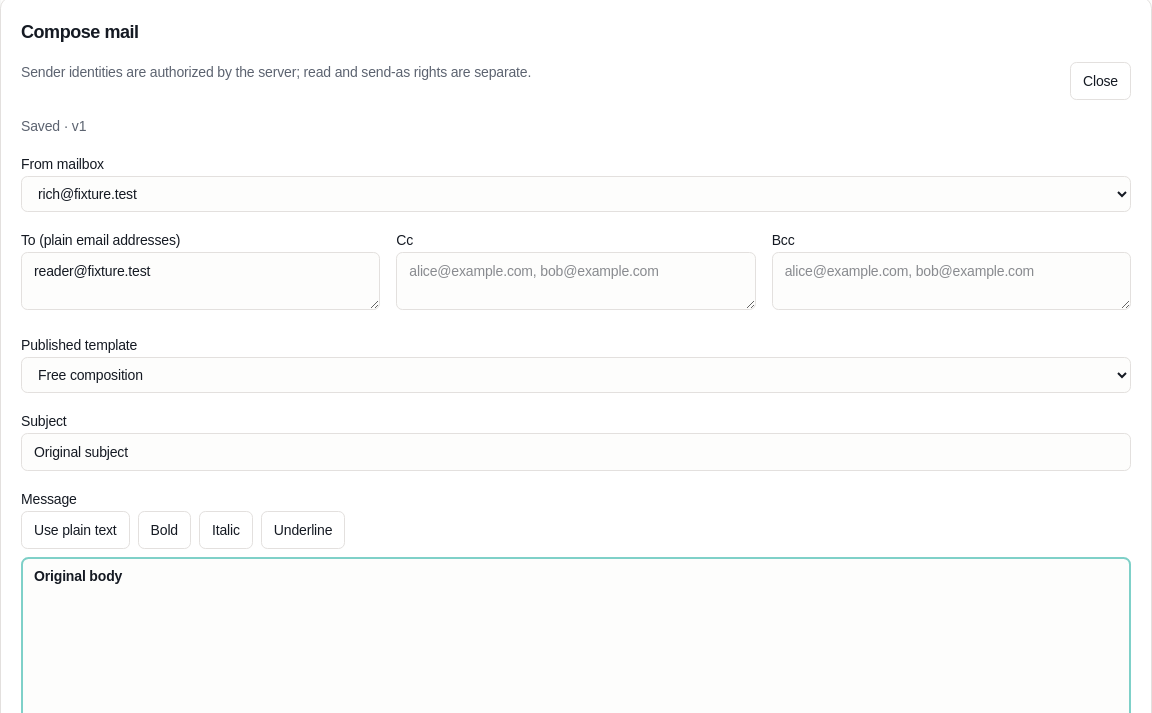
Test: discards native DOM edits even when the loaded body values equal the last controlled values
The width and height of the screenshot is (1152, 713).
Expected: the dropdown labelled "Published template" is enabled, [21, 357, 1131, 393]
Expected: the text box labelled "Original body" is shown, [34, 568, 122, 584]
Step 1. Replace the text in the field labelled "Subject" with "Local subject" → (576, 452), box [21, 433, 1131, 471]
(page scrolled)
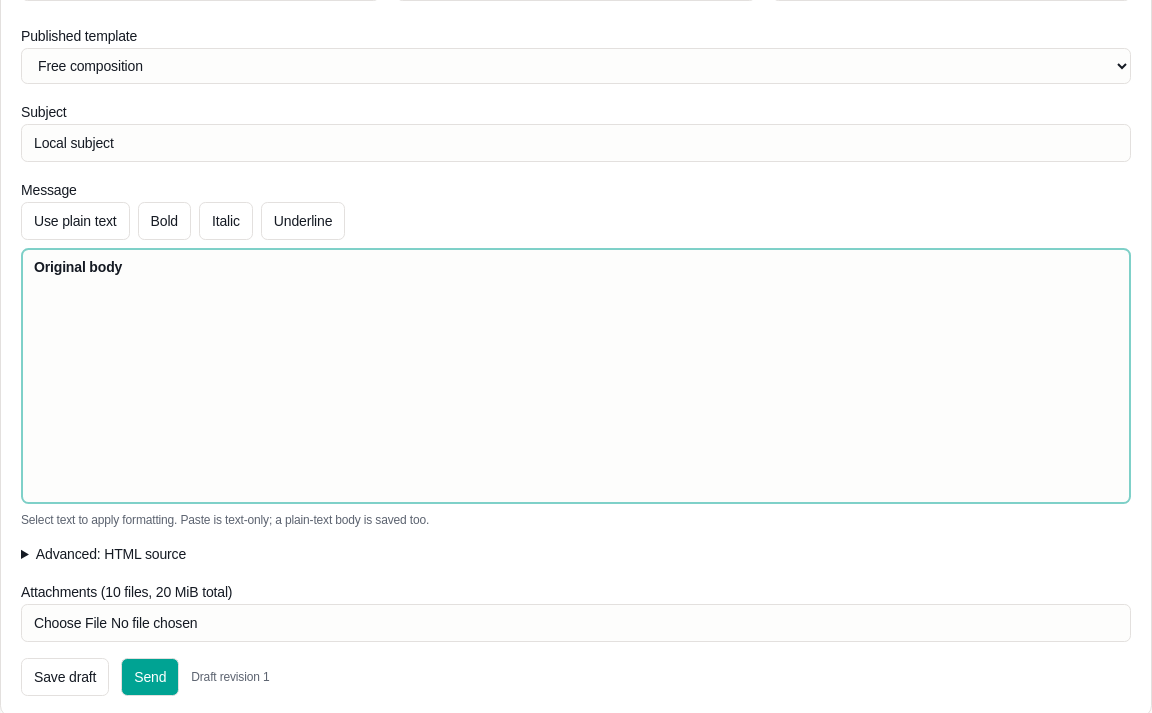
Step 2. Click the button "Save draft" → (65, 677), box [21, 658, 109, 696]
(page scrolled)
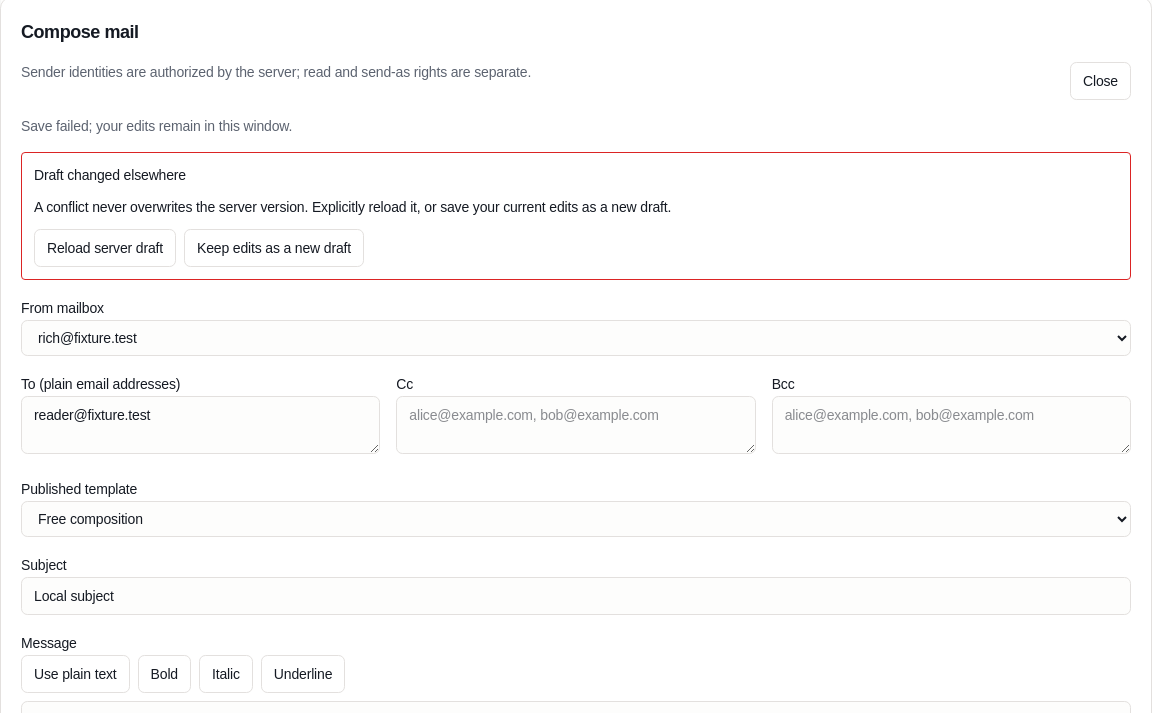
Now the text "Draft changed elsewhere" is shown, box [34, 167, 186, 183]
Now the button "Reload server draft" is enabled
Step 3. Click the button "Reload server draft" → (105, 248), box [34, 229, 176, 267]
(page scrolled)
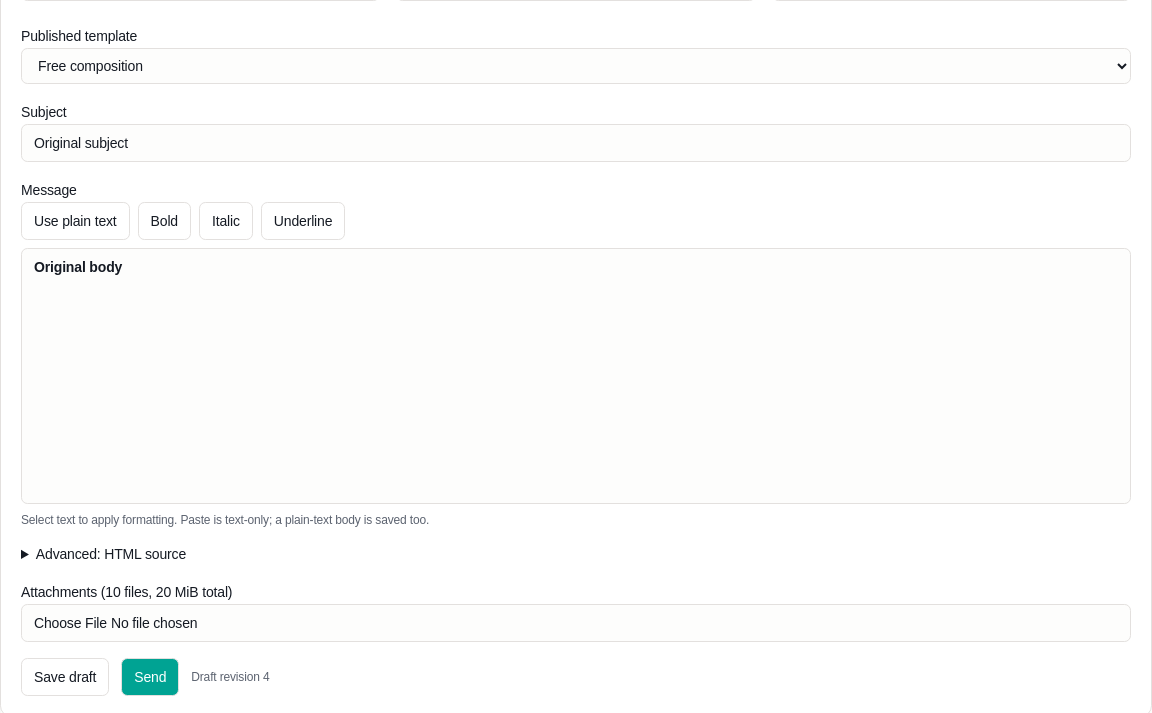
Expected: the button "Save draft" is enabled, [21, 658, 109, 696]
Now the button "Reload server draft" is gone
Now the field named "Formatted message" reads "Original body", box [21, 248, 1131, 504]
